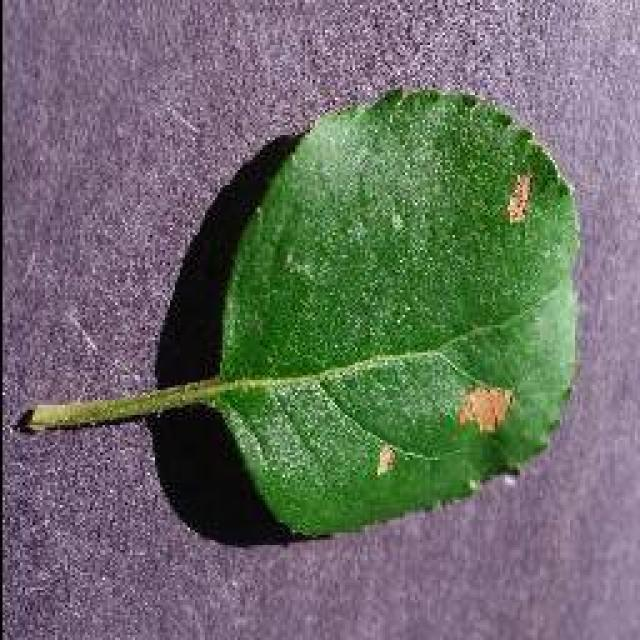apple healthy: (145, 83, 583, 545)
